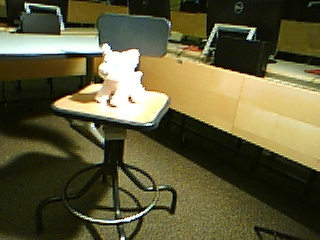piggy: (92, 42, 150, 109)
